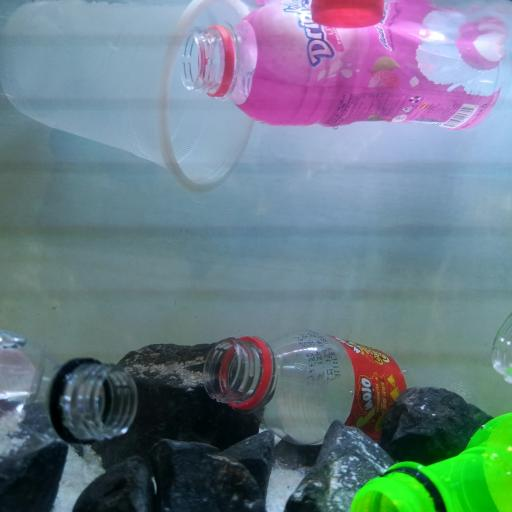bottle_cap: (312, 0, 384, 26)
plastic_bottle: (180, 0, 504, 133), (203, 328, 487, 446), (2, 330, 138, 472), (351, 409, 512, 512), (492, 313, 512, 384)
plastic_cup: (2, 0, 258, 191)
